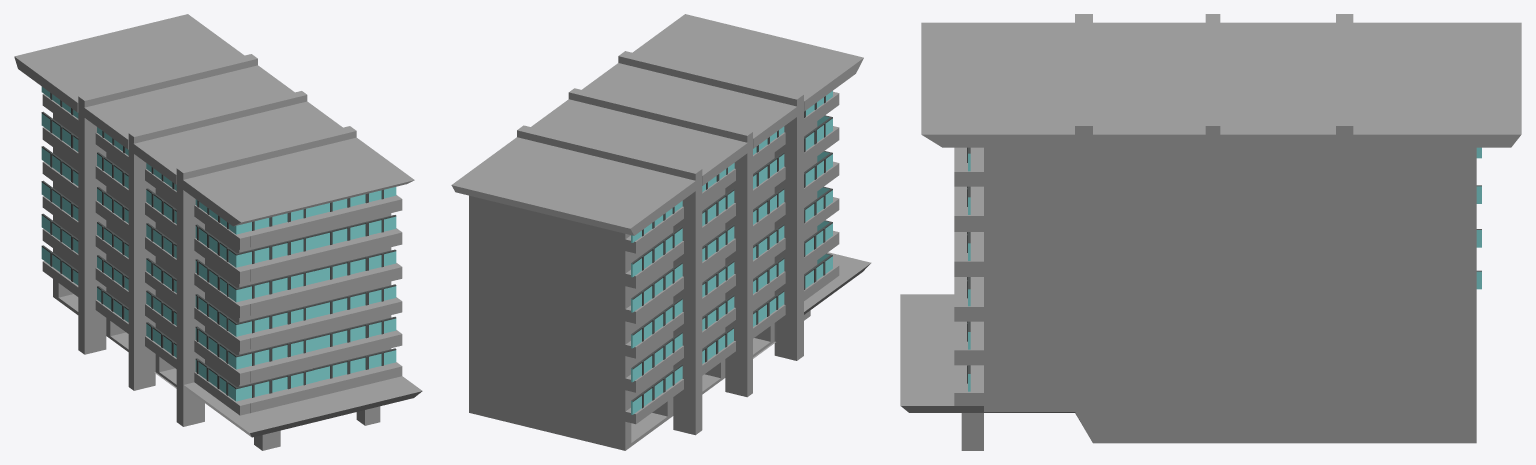
The model's file is bil01.fbx.
The picture shows the model from 3 angles, left to right: view 1: azimuth 30°, elevation 25°; view 2: azimuth 150°, elevation 25°; view 3: azimuth 270°, elevation 25°; orthographic projection. The views are drawn at different scales.
Visible parts, largest first — view 1: polySurface28, polySurface17, polySurface12, polySurface24, polySurface31, polySurface23, polySurface13, polySurface32, polySurface27, polySurface30, polySurface22, polySurface26 (+22 smaller); view 2: polySurface17, polySurface28, polySurface4, polySurface8, polySurface33, polySurface35, polySurface18, polySurface7, polySurface39, polySurface36, polySurface19, polySurface20 (+10 smaller); view 3: polySurface17, polySurface28.
Boxes of the visible parts, x1,y1,x2,y2 form: polySurface28: [14, 14, 422, 450]; polySurface17: [42, 62, 397, 426]; polySurface12: [313, 348, 396, 382]; polySurface24: [314, 215, 396, 248]; polySurface31: [235, 268, 318, 302]; polySurface23: [314, 249, 396, 283]; polySurface13: [314, 316, 396, 350]; polySurface32: [235, 234, 318, 267]; polySurface27: [235, 335, 318, 369]; polySurface30: [235, 304, 318, 336]; polySurface22: [314, 284, 396, 317]; polySurface26: [235, 368, 316, 401]; polySurface17: [469, 58, 834, 449]; polySurface28: [451, 14, 871, 450]; polySurface4: [631, 364, 682, 414]; polySurface8: [631, 297, 682, 348]; polySurface33: [631, 262, 682, 312]; polySurface35: [631, 226, 682, 277]; polySurface18: [631, 331, 682, 382]; polySurface7: [702, 224, 734, 261]; polySurface39: [702, 189, 734, 225]; polySurface36: [702, 260, 734, 297]; polySurface19: [702, 327, 733, 363]; polySurface20: [753, 290, 784, 326]; polySurface17: [965, 129, 1476, 443]; polySurface28: [900, 14, 1521, 450].
Bounding box in the file's own units: 22.68 × 31.83 × 53.09.
